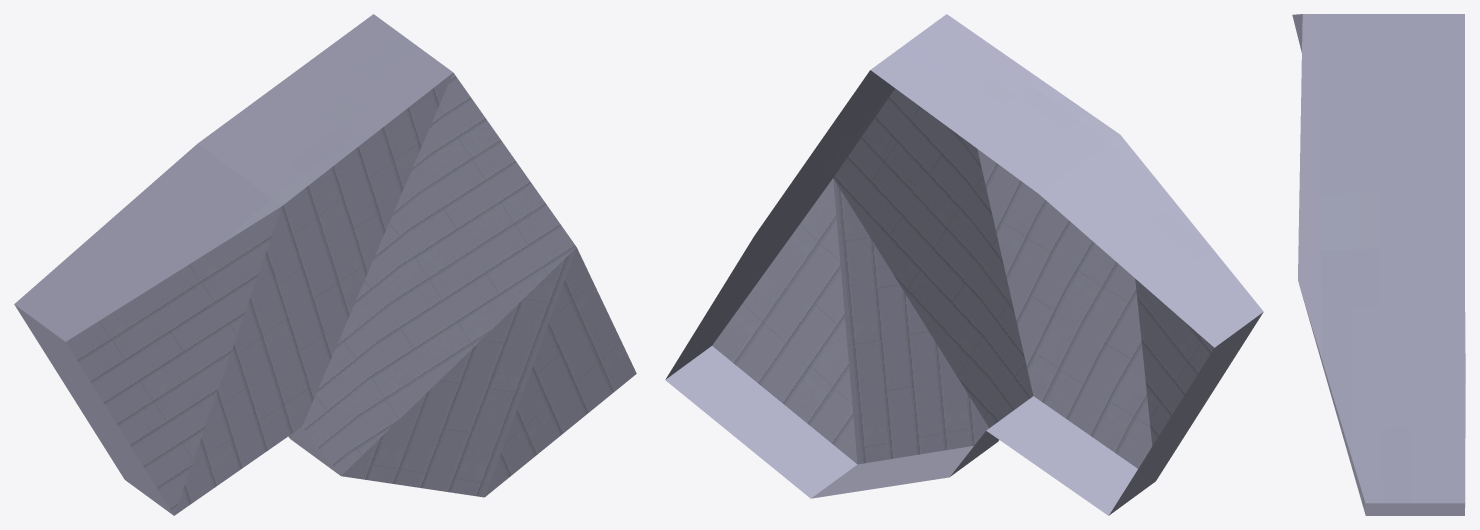
Rendered from Parnu8_2-origo.obj.
The picture shows the model from 3 angles, left to right: view 1: azimuth 30°, elevation 25°; view 2: azimuth 150°, elevation 25°; view 3: azimuth 270°, elevation 25°; orthographic projection. The views are drawn at different scales.
Parts seen in each view (by area): view 1: pPlane1; view 2: pPlane1; view 3: pPlane1.
Part boxes in pixels (x1,y1,x2,y2): pPlane1: (14,14,636,515); pPlane1: (665,14,1263,515); pPlane1: (1292,14,1465,515).
Bounding box in the file's own units: 10.38 × 8 × 2.67.
1 material, 1 textured.
